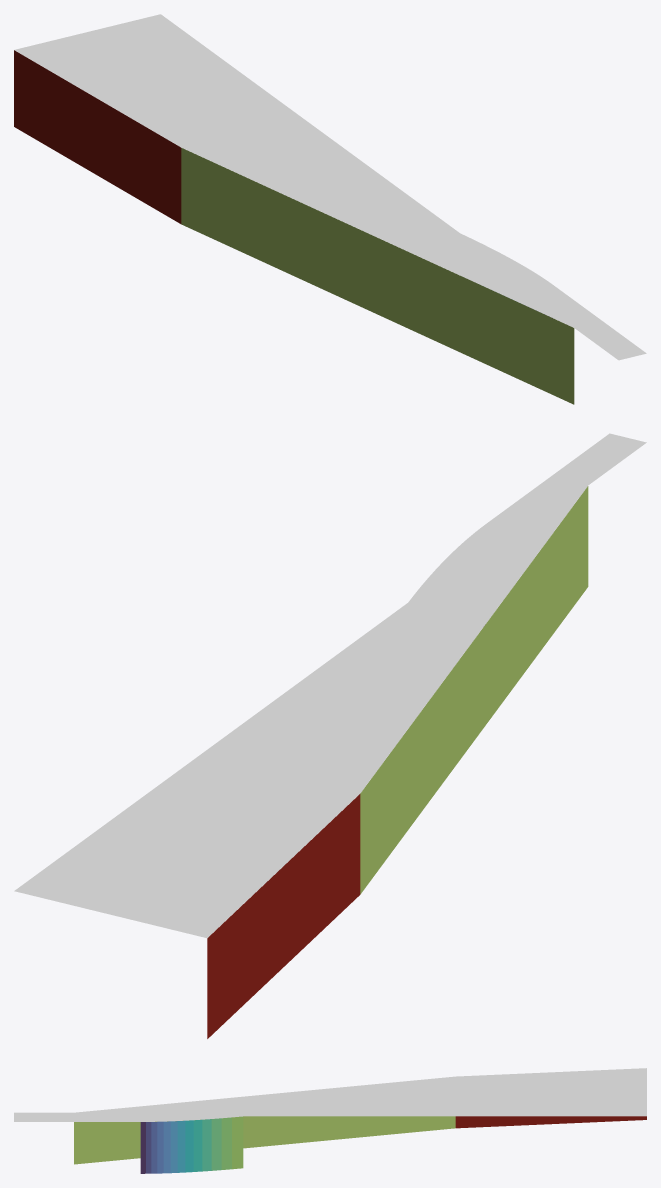
Rendered from scramjet_n2_m14.glb.
3 views of the same model, one above another, from view 1: azimuth 30°, elevation 25°; view 2: azimuth 150°, elevation 25°; view 3: azimuth 270°, elevation 25° (orthographic). The views are drawn at different scales.
Parts seen in each view (by area): view 1: Renderer Node; view 2: Renderer Node; view 3: Renderer Node.
Boxes of the visible parts, <box> form: Renderer Node: <box>14,14,646,404</box>; Renderer Node: <box>14,433,646,1038</box>; Renderer Node: <box>14,1068,646,1173</box>.
Bounding box in the file's own units: 1.11 × 0.5005 × 5.54.
